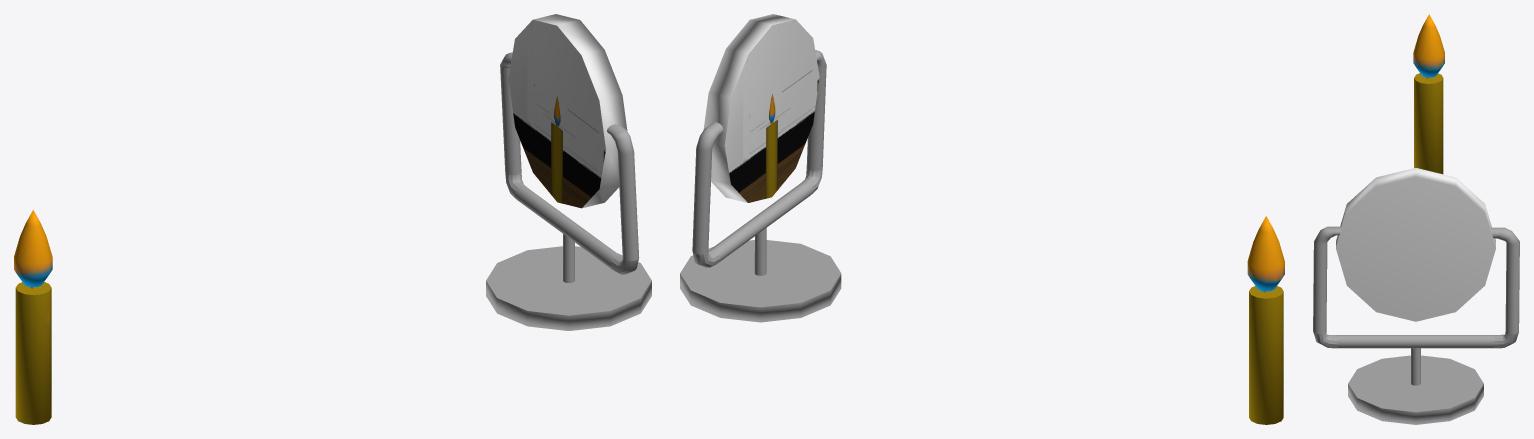
The model's file is sixth.fbx.
3 views of the same model, side by side, from view 1: azimuth 30°, elevation 25°; view 2: azimuth 150°, elevation 25°; view 3: azimuth 270°, elevation 25° (orthographic). The views are drawn at different scales.
Visible parts, largest first — view 1: pCylinder33, pCylinder36; view 2: pCylinder33, pCylinder36; view 3: pCylinder33, pCylinder36.
Boxes of the visible parts, x1,y1,x2,y2 form: pCylinder33: [486, 14, 651, 330]; pCylinder36: [14, 210, 52, 424]; pCylinder33: [680, 14, 841, 322]; pCylinder36: [1247, 216, 1284, 424]; pCylinder33: [1313, 168, 1519, 424]; pCylinder36: [1413, 14, 1444, 174].
Size of the model in its own units: 52.21 by 22.13 by 18.55.
Materials: 3 (2 with a texture image).
